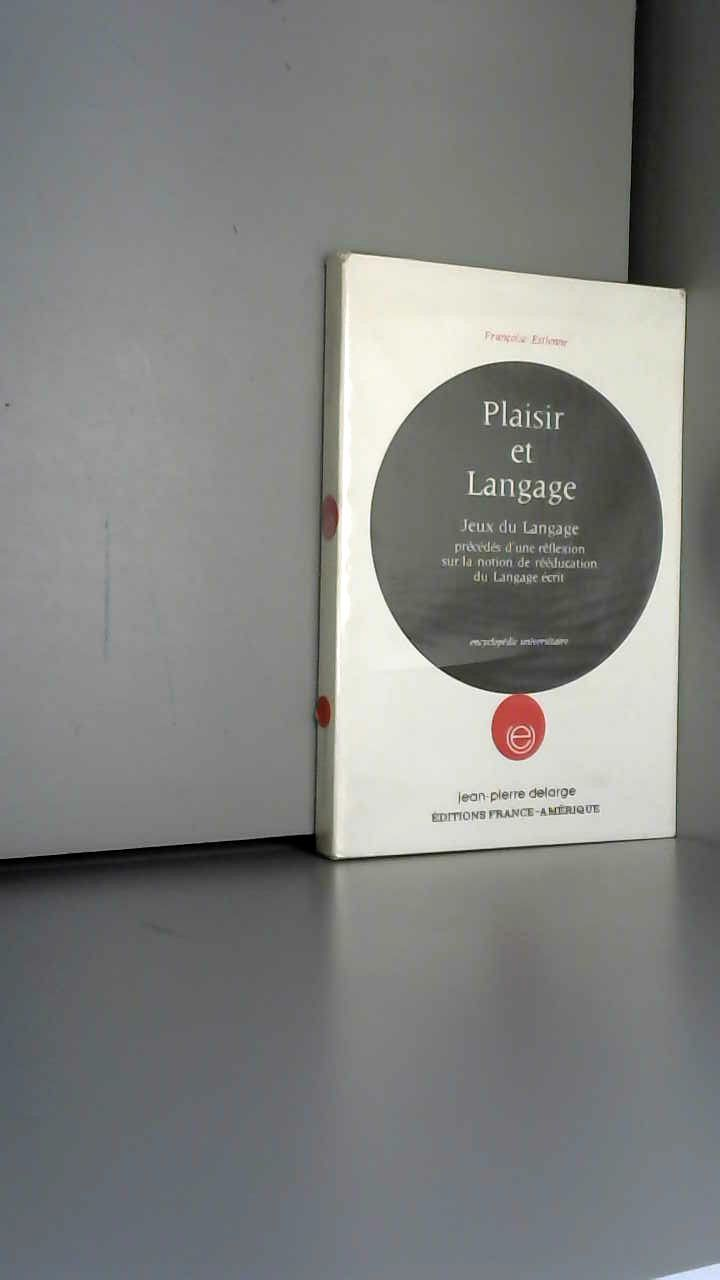book: (310, 230, 720, 942)
